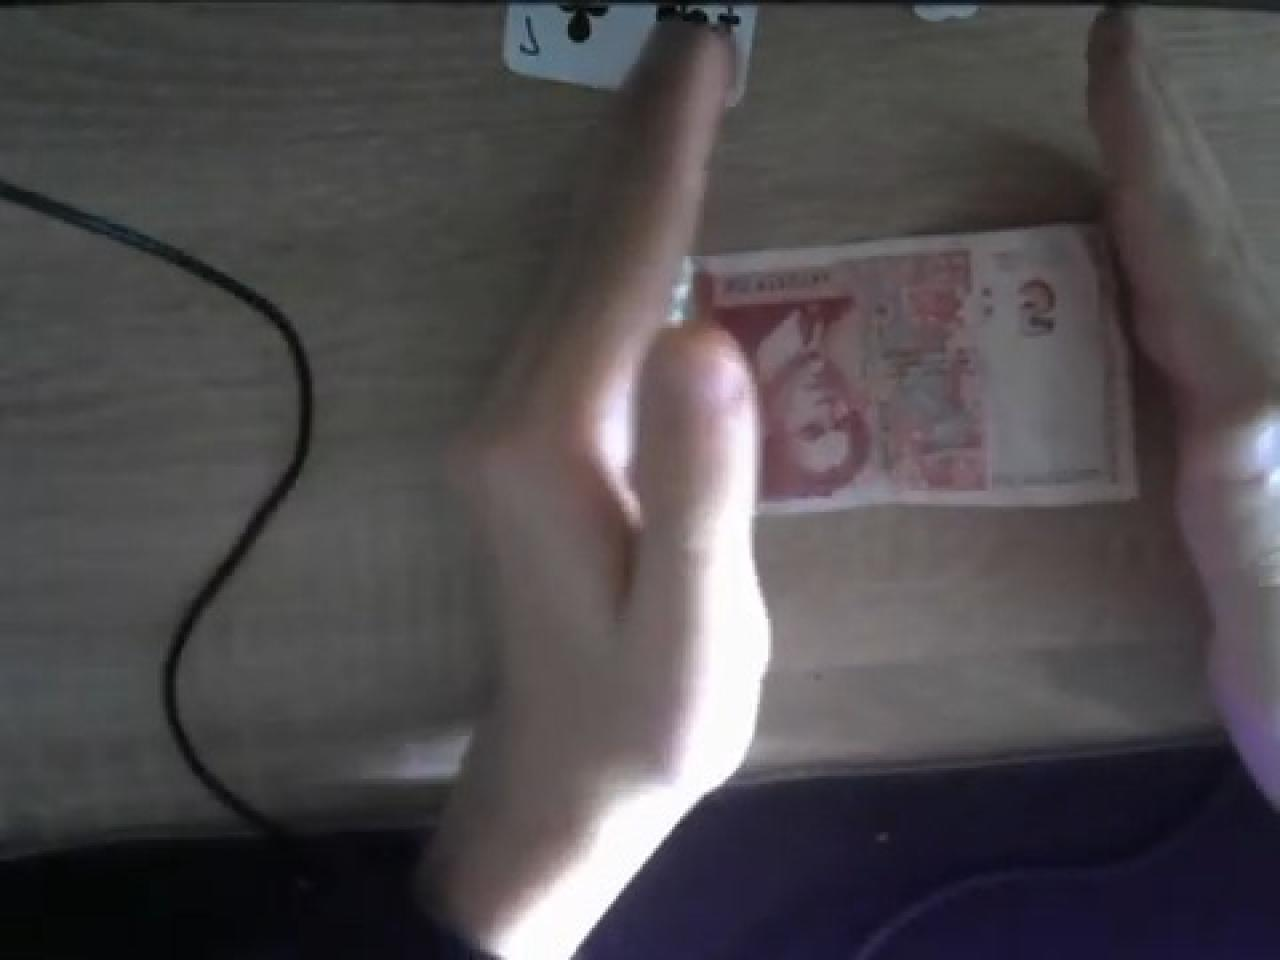5leva: (693, 216, 1147, 517), (696, 219, 1147, 517), (715, 269, 998, 506)
